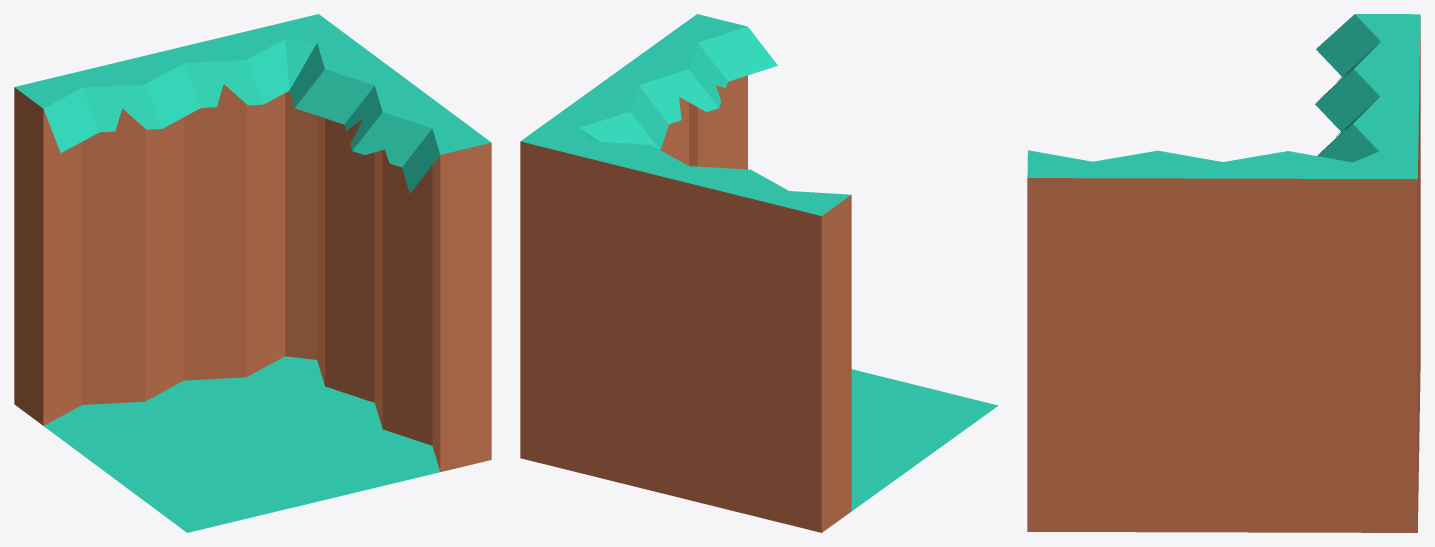
Rendered from borderNorthEast.glb.
The picture shows the model from 3 angles, left to right: view 1: azimuth 30°, elevation 25°; view 2: azimuth 150°, elevation 25°; view 3: azimuth 270°, elevation 25°; orthographic projection. The views are drawn at different scales.
Parts seen in each view (by area): view 1: mergedBlocks(Clone); view 2: mergedBlocks(Clone); view 3: mergedBlocks(Clone).
Boxes of the visible parts, left/top/right/bottom form: mergedBlocks(Clone): left=14, top=14, right=491, bottom=532; mergedBlocks(Clone): left=520, top=14, right=998, bottom=532; mergedBlocks(Clone): left=1027, top=14, right=1420, bottom=532.
Bounding box in the file's own units: 1.01 × 1 × 1.01.
